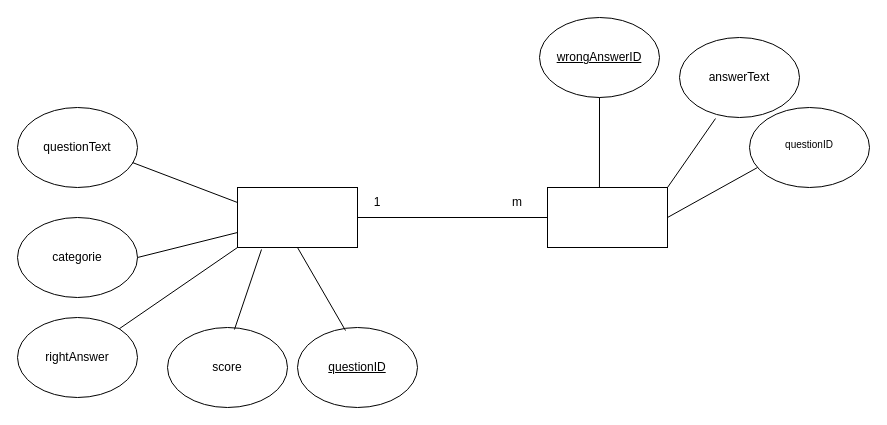
This 887x425 diagram has some shape labels left out. Here are the shapes that lost their labels. From the top down, the box of each, then its label:
(236, 186, 358, 248): Question
(546, 186, 668, 248): WrongAnswer
